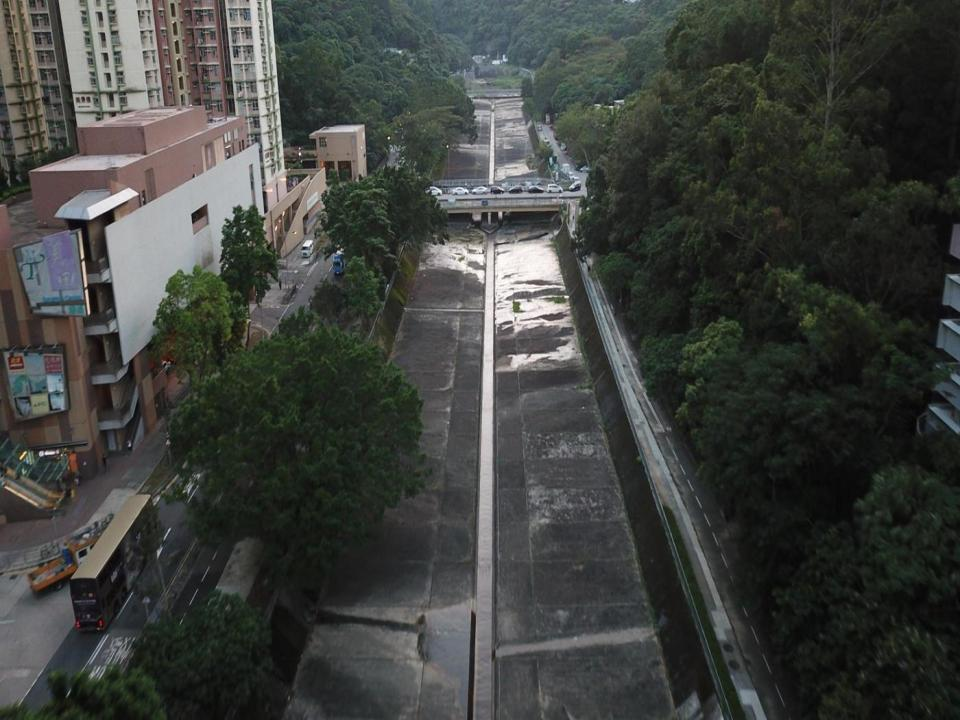bus: (72, 494, 166, 630)
car: (423, 187, 442, 195), (156, 359, 170, 369), (546, 184, 563, 192), (471, 186, 488, 194), (528, 185, 544, 193), (452, 187, 468, 195), (546, 183, 562, 191), (528, 185, 544, 192), (490, 186, 503, 194), (569, 182, 580, 191), (466, 184, 478, 192), (492, 184, 504, 192), (580, 165, 591, 173), (510, 186, 522, 193), (509, 186, 522, 192), (543, 140, 550, 150), (573, 176, 581, 184), (568, 171, 574, 179), (560, 142, 565, 150), (538, 124, 542, 132)
truck: (27, 513, 118, 594), (332, 235, 354, 274), (560, 164, 570, 174)
van: (301, 240, 312, 257), (554, 126, 562, 139), (546, 114, 550, 124)
